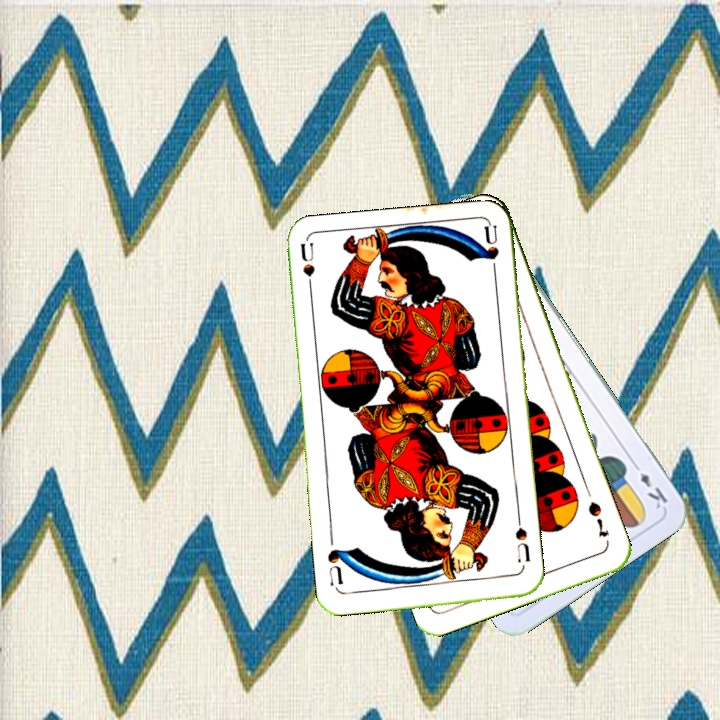EK: (628, 457, 670, 512)
S7: (584, 497, 612, 540)
SU: (296, 241, 317, 300), (511, 513, 533, 565)
